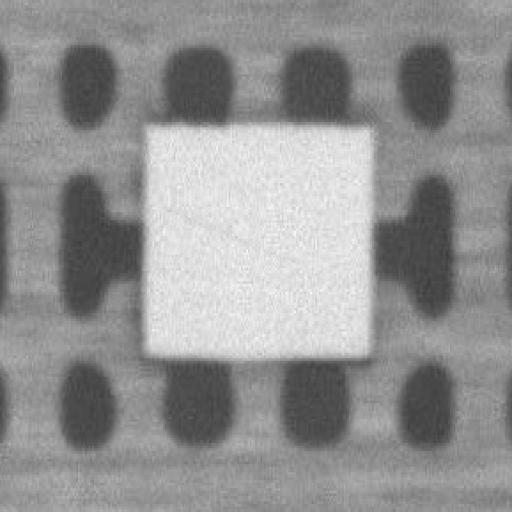DIE_CRACK: (241, 136, 443, 174)
